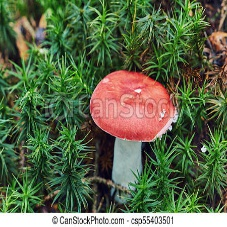mushroom: (93, 69, 177, 203)
